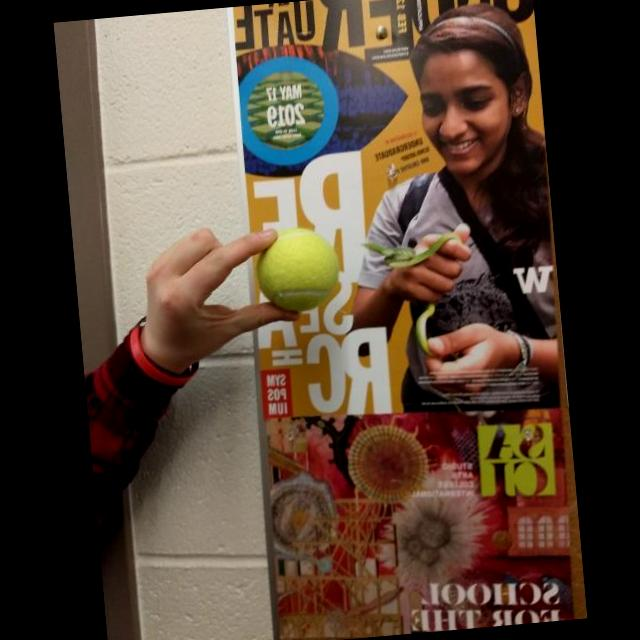Tennis Ball: (254, 225, 341, 318)
